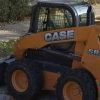Tractor: (15, 7, 100, 94)
